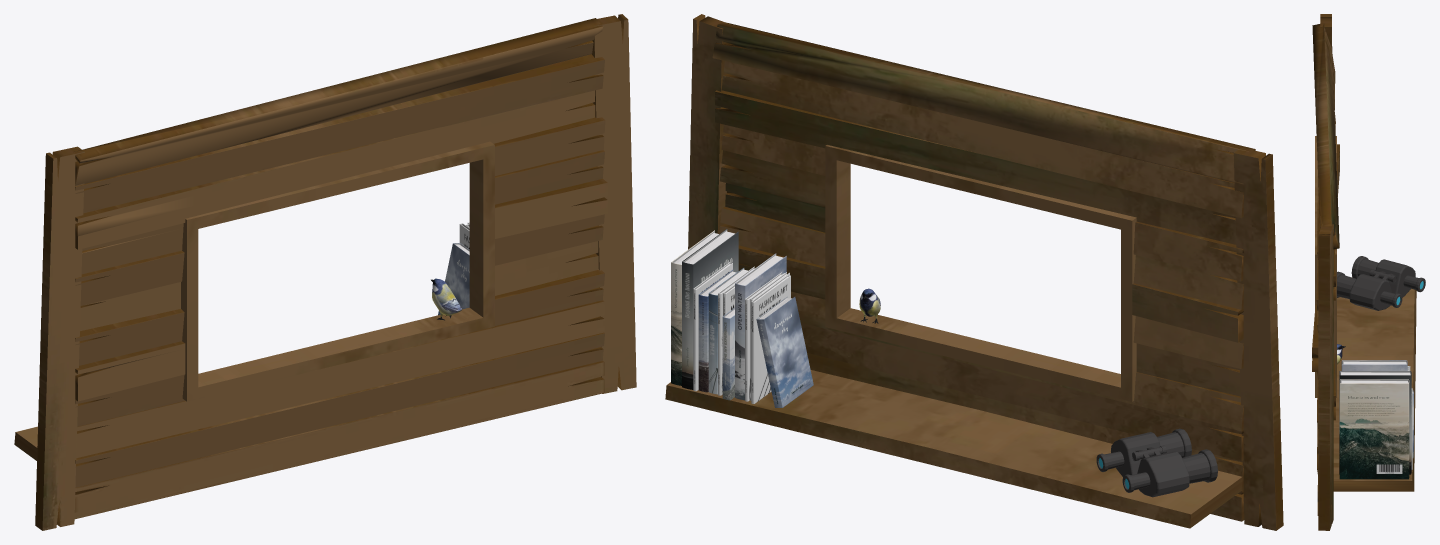
The model's file is deer-window-v7.glb.
3 renders of one model, left to right at view 1: azimuth 30°, elevation 25°; view 2: azimuth 150°, elevation 25°; view 3: azimuth 270°, elevation 25°, orthographic. The views are drawn at different scales.
Parts seen in each view (by area): view 1: defaultMaterial.003, Book 03, body2; view 2: defaultMaterial.003, Low Poly Cartoon Binoculars, Book 03, Book 01, Book 02, Magazine 06, Book 07, Magazine 01, Book 06, Book 05, Book 04, Magazine 04; view 3: defaultMaterial.003, Book 01, Low Poly Cartoon Binoculars, Book 02, Book 07, Magazine 01.
Part boxes in pixels (left/top/right/bottom): defaultMaterial.003: left=14, top=14, right=636, bottom=530; Book 03: left=438, top=243, right=469, bottom=315; body2: left=432, top=278, right=461, bottom=316; defaultMaterial.003: left=665, top=14, right=1283, bottom=530; Low Poly Cartoon Binoculars: left=860, top=293, right=1217, bottom=497; Book 03: left=756, top=296, right=813, bottom=407; Book 01: left=671, top=229, right=791, bottom=385; Book 02: left=682, top=229, right=738, bottom=389; Magazine 06: left=751, top=275, right=790, bottom=403; Book 07: left=735, top=253, right=786, bottom=400; Magazine 01: left=693, top=262, right=787, bottom=391; Book 06: left=698, top=270, right=732, bottom=392; Book 05: left=722, top=308, right=734, bottom=400; Book 04: left=708, top=268, right=743, bottom=394; Magazine 04: left=745, top=272, right=784, bottom=401; defaultMaterial.003: left=1312, top=14, right=1416, bottom=530; Book 01: left=1339, top=360, right=1413, bottom=479; Low Poly Cartoon Binoculars: left=1337, top=256, right=1425, bottom=349; Book 02: left=1339, top=371, right=1411, bottom=474; Book 07: left=1341, top=360, right=1407, bottom=370; Magazine 01: left=1411, top=388, right=1412, bottom=469.
Size of the model in its own units: 1.18 by 0.704 by 0.2468.
20 materials, 20 textured.
